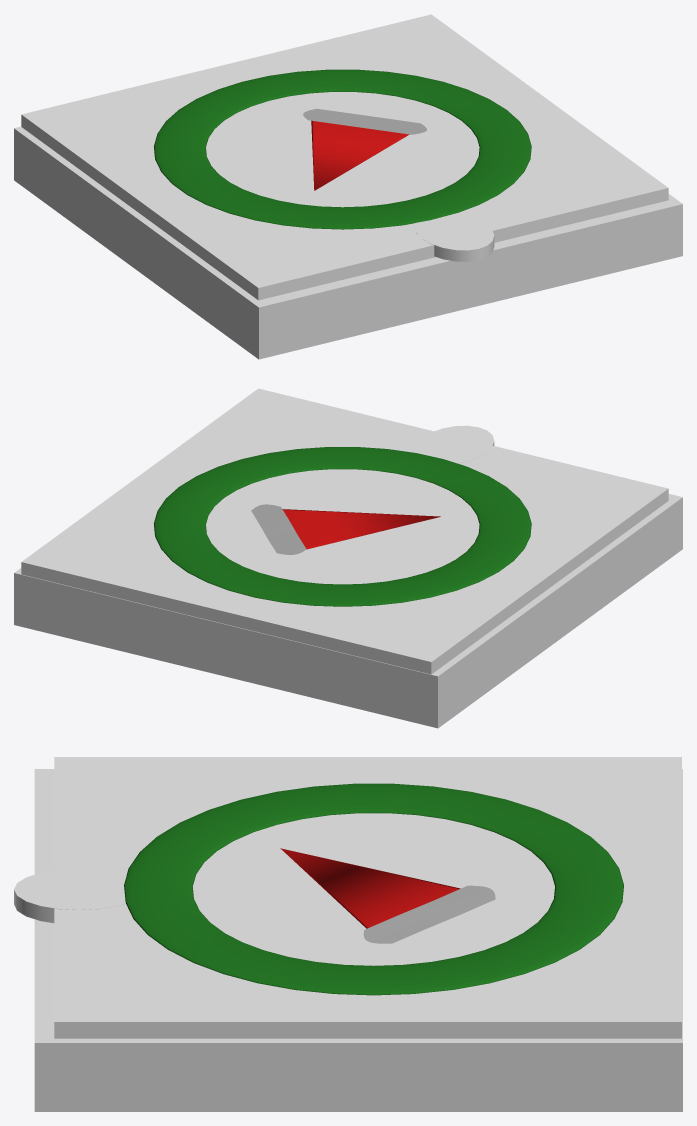
The model's file is pizzabox.fbx.
3 renders of one model, top to bottom at view 1: azimuth 30°, elevation 25°; view 2: azimuth 150°, elevation 25°; view 3: azimuth 270°, elevation 25°, orthographic. The views are drawn at different scales.
Parts seen in each view (by area): view 1: pasted__pCube1, pCube1, pTorus1, pCone1, pCylinder1, pPlane1; view 2: pasted__pCube1, pCube1, pTorus1, pCone1, pCylinder1, pPlane1; view 3: pasted__pCube1, pCube1, pTorus1, pCone1, pCylinder1, pPlane1.
Part boxes in pixels (box(x1,y1,x2,y2)): pasted__pCube1: box(21, 14, 668, 300); pCube1: box(14, 126, 682, 359); pTorus1: box(154, 69, 531, 229); pCone1: box(311, 120, 409, 190); pCylinder1: box(414, 213, 494, 261); pPlane1: box(303, 108, 426, 134); pasted__pCube1: box(21, 388, 668, 674); pCube1: box(14, 494, 682, 728); pTorus1: box(154, 447, 531, 606); pCone1: box(282, 509, 440, 549); pCylinder1: box(414, 425, 494, 463); pPlane1: box(251, 504, 306, 554); pasted__pCube1: box(54, 757, 681, 1038); pCube1: box(34, 769, 682, 1111); pTorus1: box(124, 783, 623, 995); pCone1: box(280, 848, 460, 928); pCylinder1: box(14, 869, 126, 923); pPlane1: box(363, 885, 495, 943).
Bounding box in the file's own units: 10 × 1.53 × 10.32.
